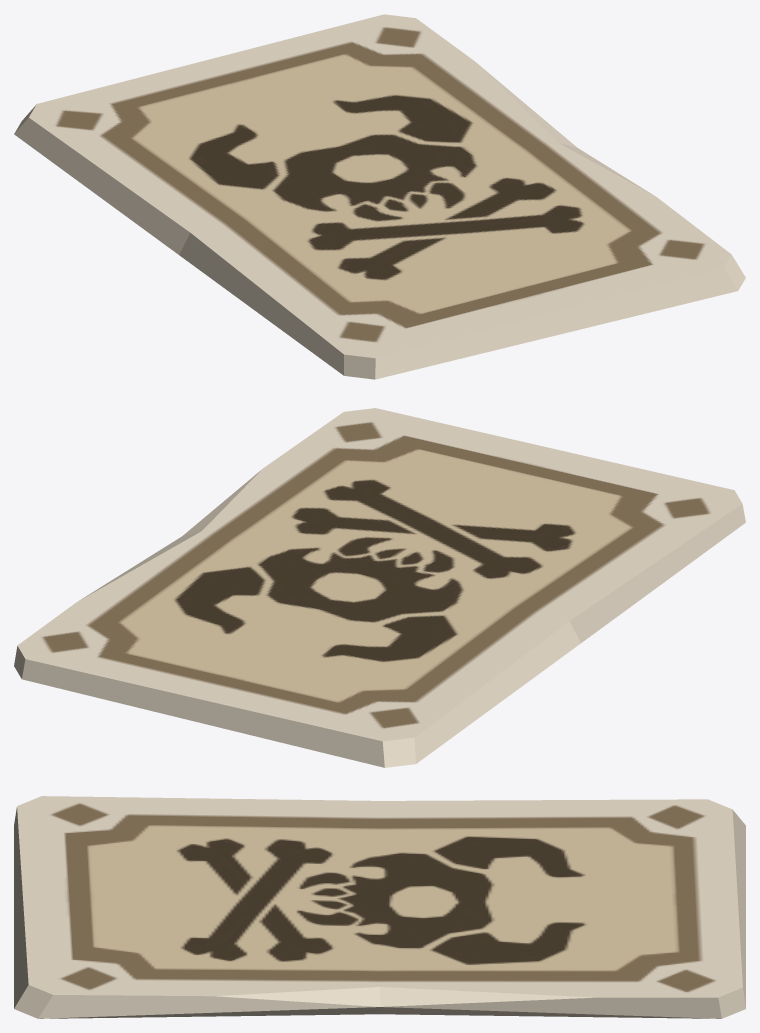
Rendered from SM_Prop_Tarot_Card_07.fbx.
3 views of the same model, one above another, from view 1: azimuth 30°, elevation 25°; view 2: azimuth 150°, elevation 25°; view 3: azimuth 270°, elevation 25° (orthographic). The views are drawn at different scales.
Visible parts, largest first — view 1: SM_Prop_Tarot_Card_07; view 2: SM_Prop_Tarot_Card_07; view 3: SM_Prop_Tarot_Card_07.
Boxes of the visible parts, left/top/right/bottom form: SM_Prop_Tarot_Card_07: left=14, top=14, right=745, bottom=379; SM_Prop_Tarot_Card_07: left=14, top=408, right=745, bottom=767; SM_Prop_Tarot_Card_07: left=14, top=796, right=745, bottom=1018.
Bounding box in the file's own units: 13.22 × 0.62 × 20.12.
